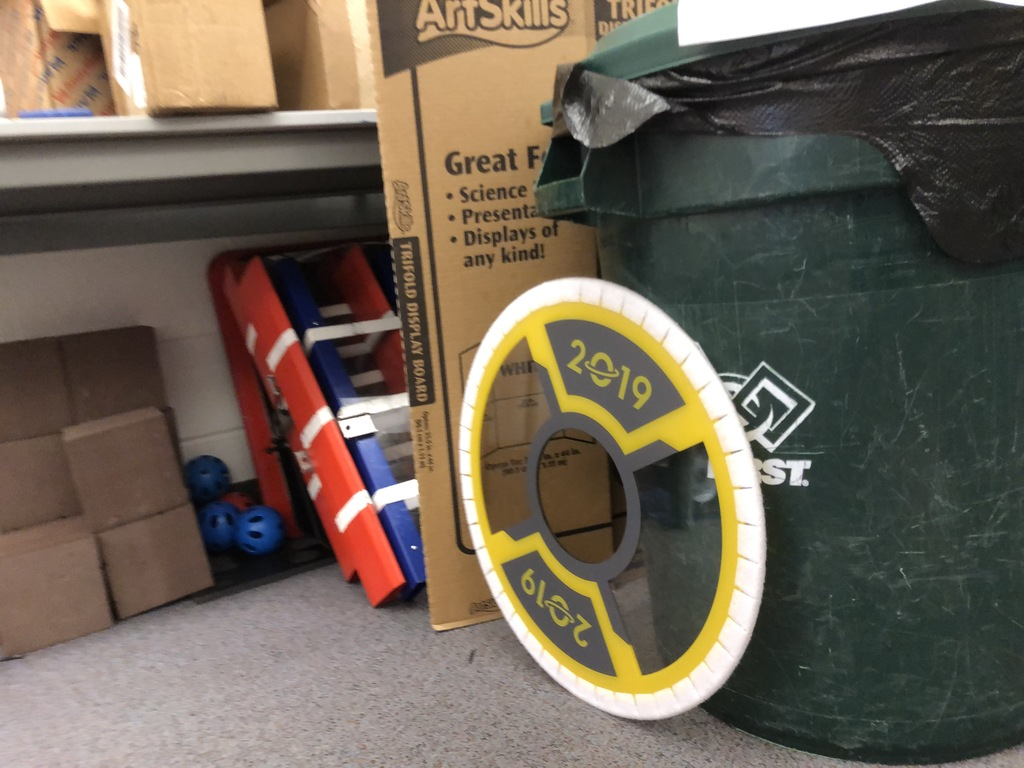hatch_panel: (448, 264, 783, 750)
